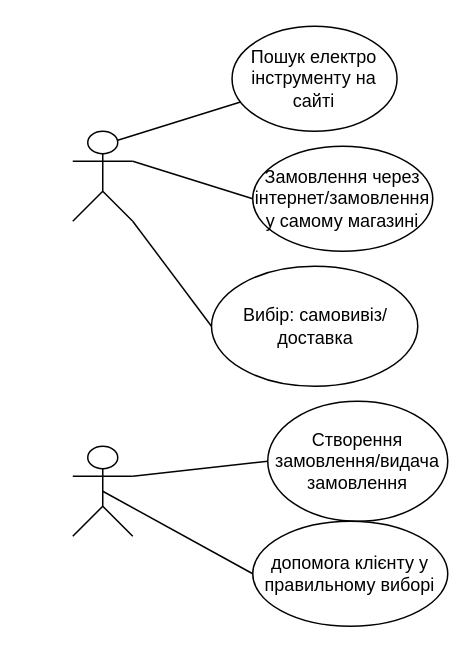
The diagram is 474 pixels wide and 653 high, and some of its shapes have lost their labels. Each missing label, with the box of its shape:
Клієнт: (71, 130, 133, 221)
Робітник магазину: (71, 445, 133, 536)
